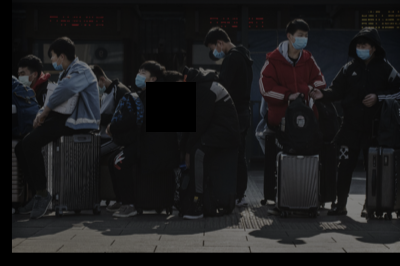mask_weared_incorrect: (48, 57, 62, 72)
with_mask: (291, 31, 307, 49), (354, 43, 370, 60), (133, 70, 148, 88), (16, 68, 30, 86), (209, 46, 223, 59)
